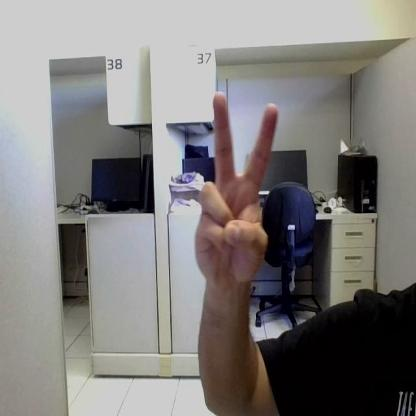V: (196, 92, 277, 282)
